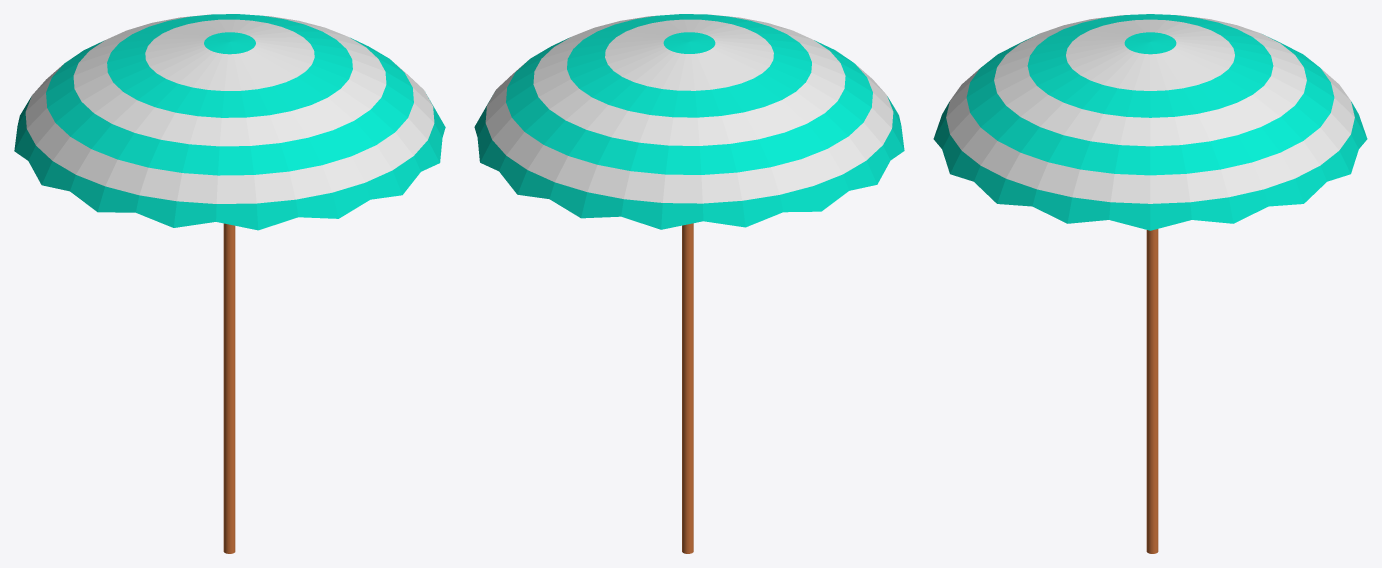
File: SuneshineUmbrella.fbx
3 views of the same model, side by side, from view 1: azimuth 30°, elevation 25°; view 2: azimuth 150°, elevation 25°; view 3: azimuth 270°, elevation 25° (orthographic).
Parts seen in each view (by area): view 1: Cylinder.028; view 2: Cylinder.028; view 3: Cylinder.028.
Part boxes in pixels (x1,y1,x2,y2): Cylinder.028: [14, 14, 445, 553]; Cylinder.028: [474, 14, 904, 553]; Cylinder.028: [933, 14, 1367, 553].
Size of the model in its own units: 229 by 296 by 229.
